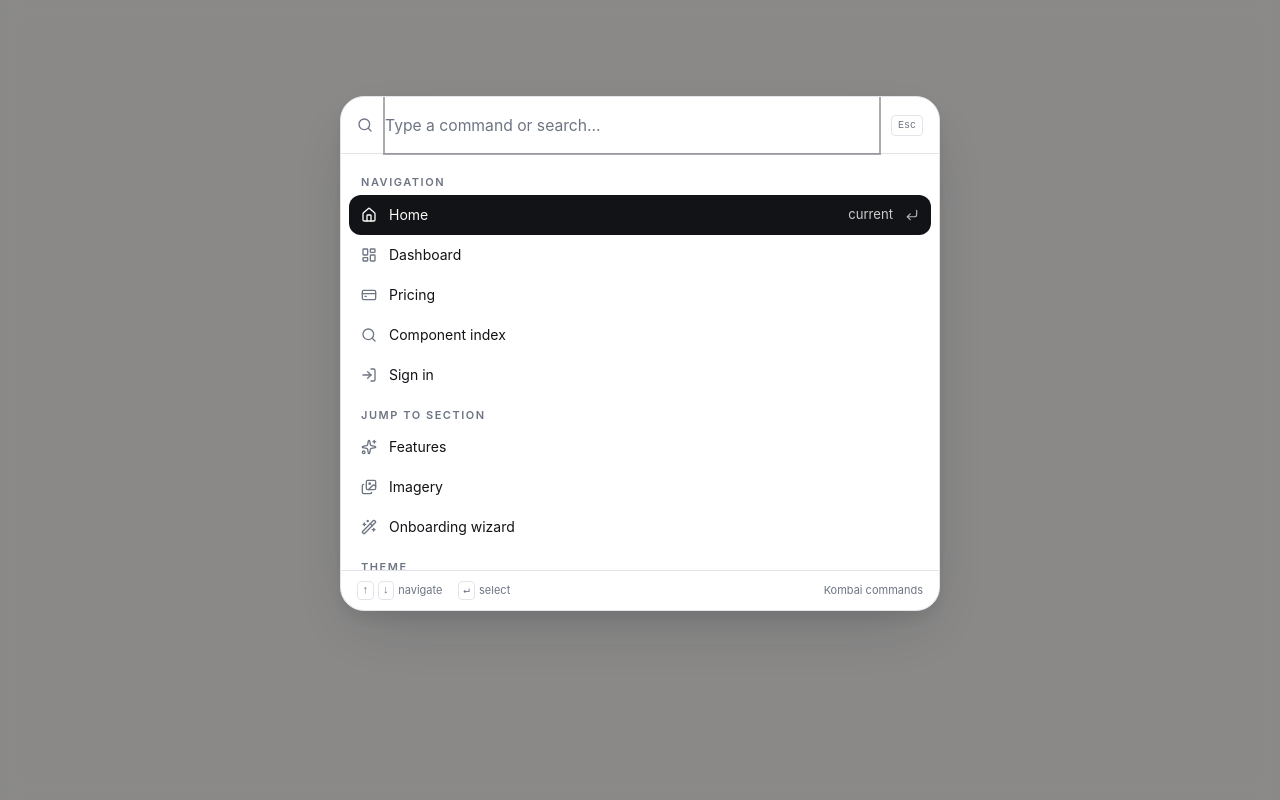
Test: CommandPalette › shows an empty state for a non-matching query
Type "zzzznotacommand" into the dropdown at (632, 125), box [385,97,879,153]
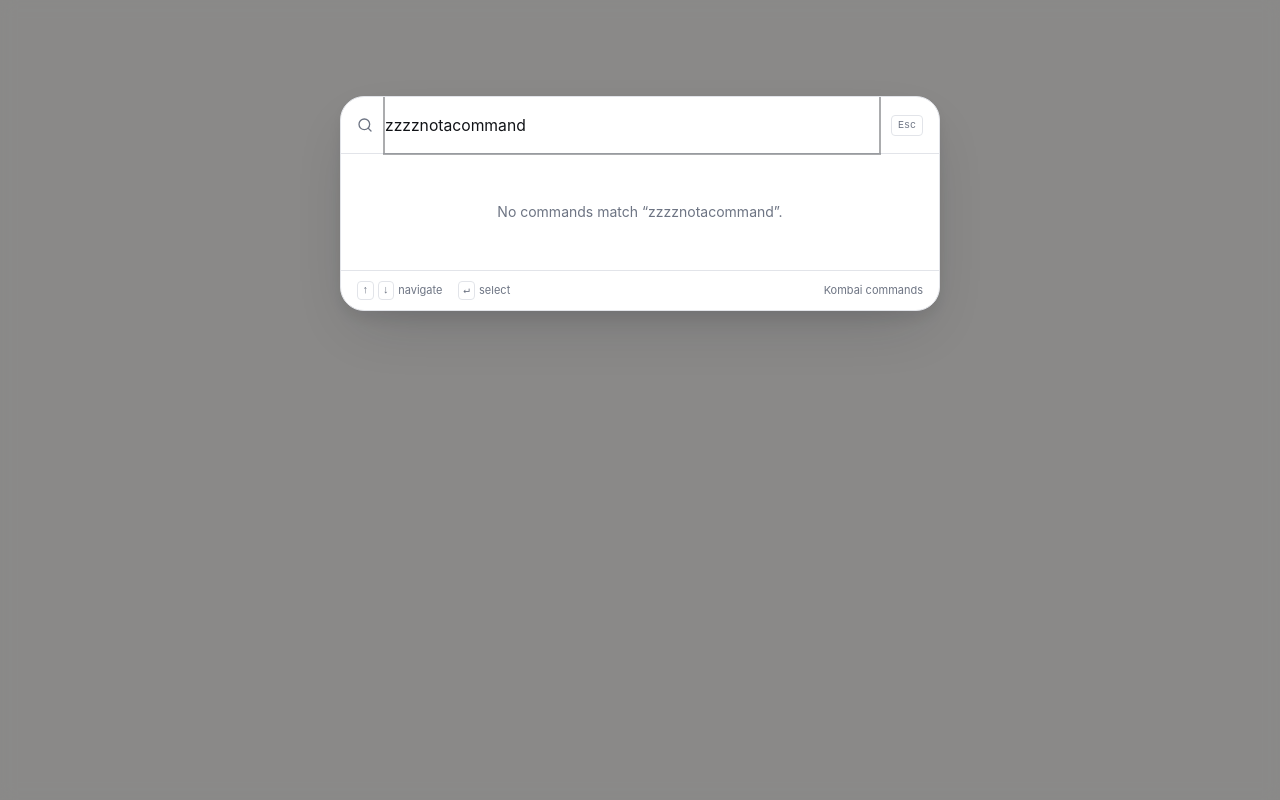
Now the text "No commands match “zzzznotacommand”." is shown, box [497,203,783,220]
